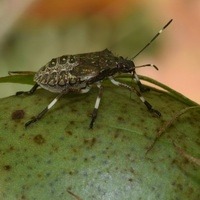insect: (16, 19, 171, 126)
